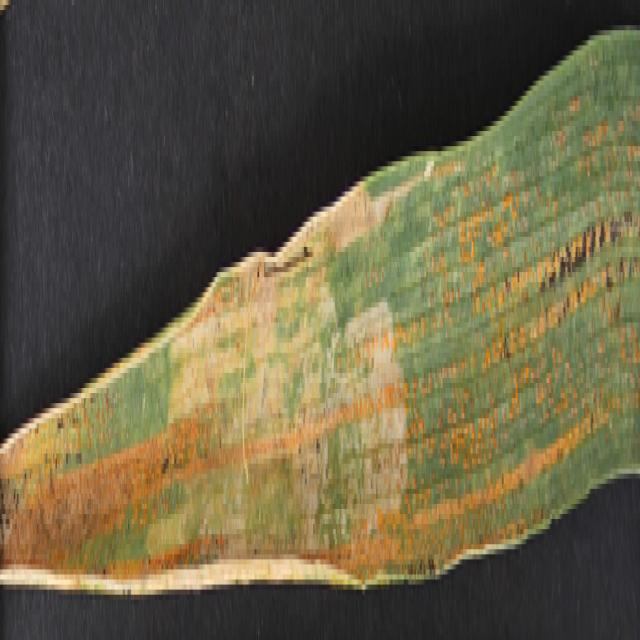leaf rust: (5, 101, 638, 610)
